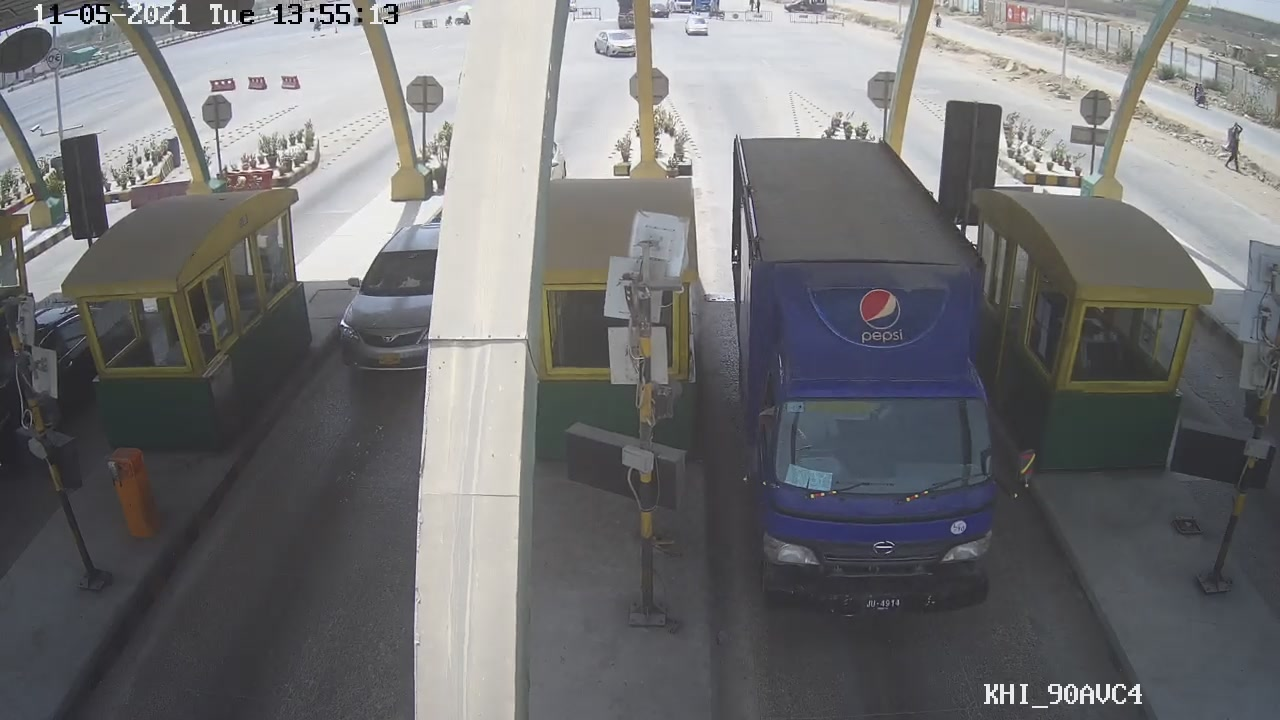F5: (719, 127, 1017, 633)
